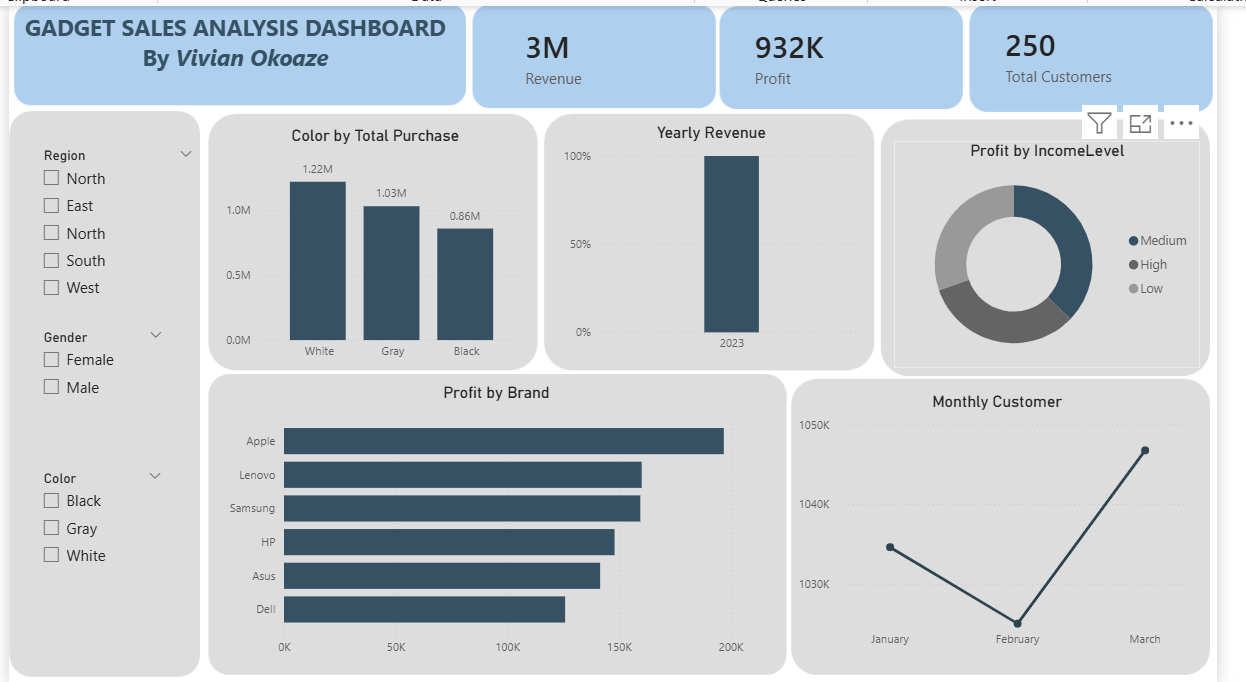

The dashboard page shown, as its layout file describes it:
{"tool":"powerbi","page":{"name":"Page 1","canvas":[1280,720],"ordinal":0},"visuals":[{"type":"barChart","fields":{"Category":["Products.Brand"],"Y":["Sales.Profit"]},"box":[225,400,585,298.3],"z":0},{"type":"clusteredColumnChart","title":" Color by Total Purchase","fields":{"Category":["Products.Color"],"Y":["Sum(Sales.Revenue)"]},"box":[225,126.7,328.3,256.7],"z":1000},{"type":"donutChart","fields":{"Category":["Customers.IncomeLevel"],"Y":["Sales.Profit"]},"box":[938.3,143.3,325,240],"z":2000},{"type":"hundredPercentStackedColumnChart","title":"Yearly Revenue","fields":{"Category":["Sales.Date.Variation.Date Hierarchy.Year"],"Y":["Sum(Sales.Revenue)"]},"box":[581.7,123.3,325,251.7],"z":3000},{"type":"lineChart","title":"Monthly Customer","fields":{"Category":["Sales.Date.Variation.Date Hierarchy.Month"],"Y":["Sum(Sales.Revenue)"]},"box":[831.7,408.3,431.7,280],"z":4000},{"type":"slicer","fields":{"Values":["Customers.Gender"]},"box":[23.7,337.3,150.8,116.9],"z":5000},{"type":"slicer","fields":{"Values":["Customers.Region"]},"box":[23.7,144.1,183.1,193.2],"z":6000},{"type":"cardVisual","fields":{"Data":["Sum(Sales.Revenue)"]},"box":[518.3,1.7,213.3,105],"z":7000},{"type":"cardVisual","fields":{"Data":["Sales.Profit"]},"box":[761.7,1.7,236.7,103.3],"z":8000},{"type":"textbox","box":[0,0,480,103.3],"z":9000},{"type":"slicer","fields":{"Values":["Products.Color"]},"box":[23.3,486.7,150,171.7],"z":11000},{"type":"cardVisual","fields":{"Data":["Sales.Total Customers"]},"box":[1027.1,0,237.3,103.4],"z":11001}]}

Visuals, with their boxes on the page's 1280x720 design canvas (x1, y1, x2, y2). These are canvas units, not pixel positions in the 1246x682 screenshot, which may show the page scaled, cropped or inside an application window:
barChart - Products.Brand x Sales.Profit: 225:400:810:698
" Color by Total Purchase" clusteredColumnChart: 225:127:553:383
donutChart - Customers.IncomeLevel x Sales.Profit: 938:143:1263:383
"Yearly Revenue" hundredPercentStackedColumnChart: 582:123:907:375
"Monthly Customer" lineChart: 832:408:1263:688
slicer - Customers.Gender: 24:337:174:454
slicer - Customers.Region: 24:144:207:337
cardVisual - Sum(Sales.Revenue): 518:2:732:107
cardVisual - Sales.Profit: 762:2:998:105
textbox: 0:0:480:103
slicer - Products.Color: 23:487:173:658
cardVisual - Sales.Total Customers: 1027:0:1264:103
